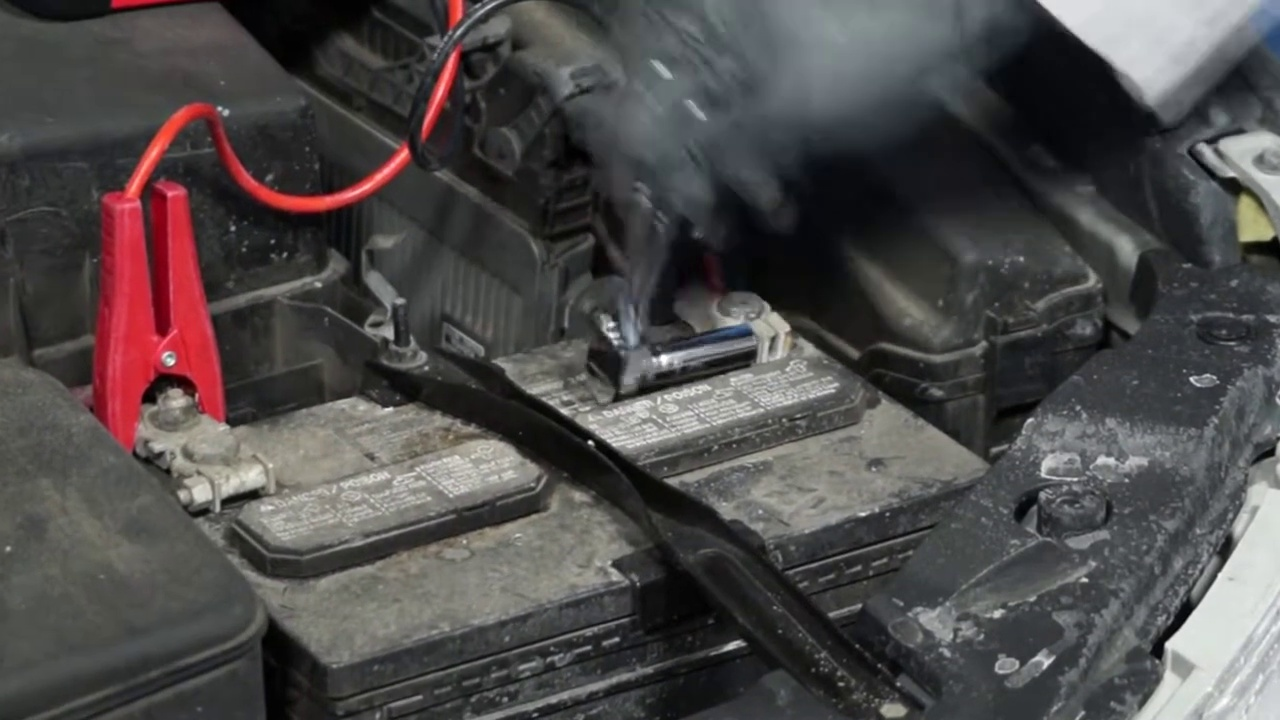battery: (111, 276, 992, 678)
neg_touched: (580, 92, 838, 396)
pos_connected: (88, 296, 266, 508)
